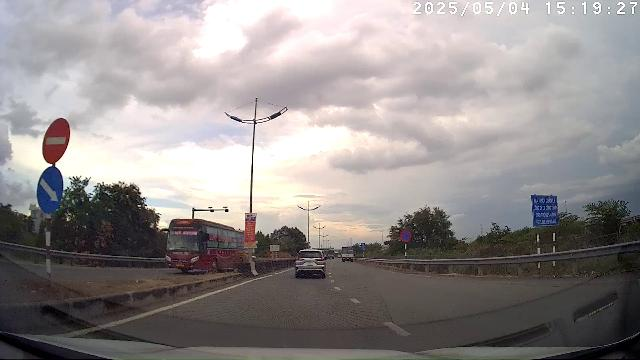102-cam-di-nguoc-chieu: (41, 117, 70, 163)
130-cam-dung-va-do-xe: (400, 230, 412, 242)
302a-huong-phai-di-vong-chuong-ngai-vat-1: (36, 166, 64, 214)
